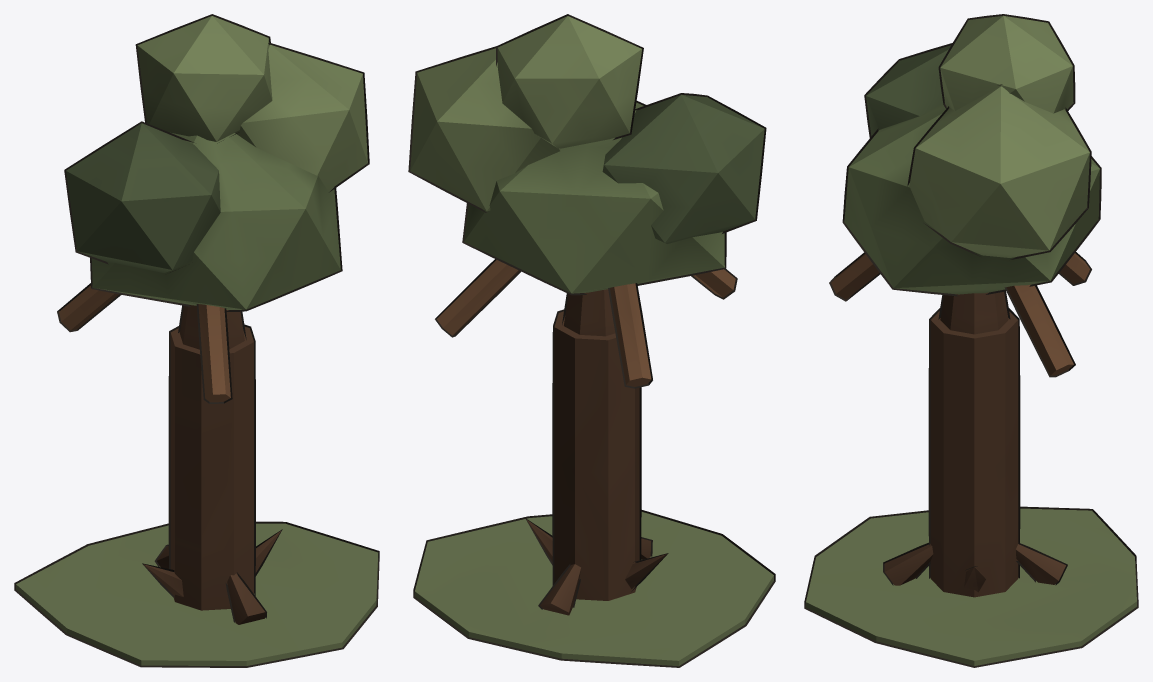
File: arbre_majestueux.glb
3 views of the same model, side by side, from view 1: azimuth 30°, elevation 25°; view 2: azimuth 150°, elevation 25°; view 3: azimuth 270°, elevation 25° (orthographic). The views are drawn at different scales.
Visible parts, largest first — view 1: arbre_majestueux, arbre_majestueux_outline; view 2: arbre_majestueux, arbre_majestueux_outline; view 3: arbre_majestueux, arbre_majestueux_outline.
Boxes of the visible parts, x1,y1,x2,y2 form: arbre_majestueux: (16, 16, 378, 665); arbre_majestueux_outline: (14, 14, 379, 667); arbre_majestueux: (410, 16, 773, 666); arbre_majestueux_outline: (408, 14, 775, 667); arbre_majestueux: (806, 15, 1136, 665); arbre_majestueux_outline: (804, 14, 1138, 667).
Bounding box in the file's own units: 2.52 × 4.43 × 2.29.
